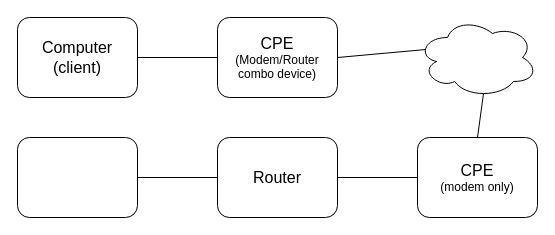
Some shapes in this 555 by 235 pixel diagram are drawn without their labels. The centre of each missing label's shape, as x and y in pixels:
"Internet" belongs at (477,57).
"Raspberry Pi" belongs at (77,177).
